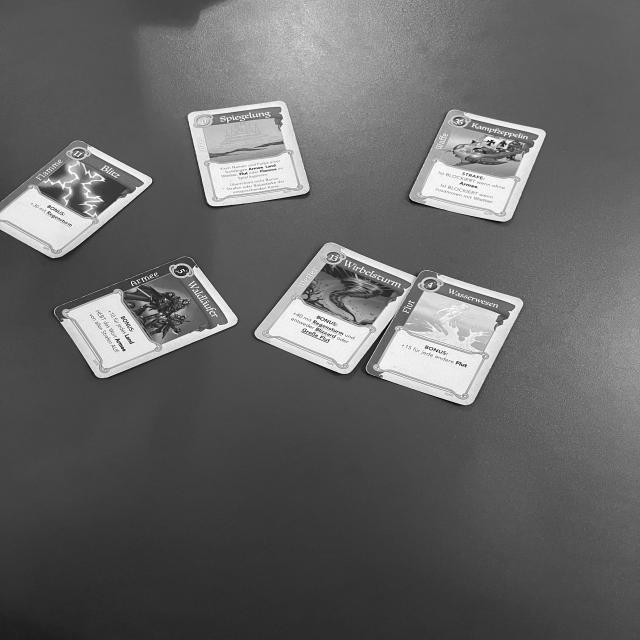Lightning: (0, 138, 156, 262)
Mirage: (185, 98, 311, 208)
Rangers: (51, 252, 241, 382)
War Dirigable: (405, 107, 548, 225)
Water Elemental: (360, 268, 527, 407)
Whirlwind: (251, 239, 422, 377)
